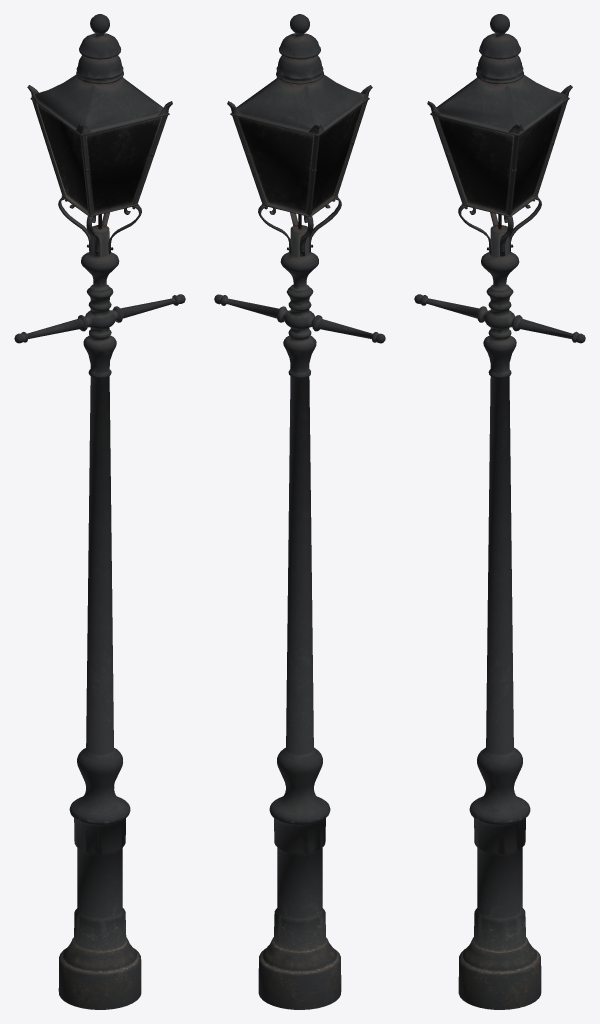
The model's file is street_lamp_01.glb.
3 views of the same model, side by side, from view 1: azimuth 30°, elevation 25°; view 2: azimuth 150°, elevation 25°; view 3: azimuth 330°, elevation 25° (orthographic).
Parts seen in each view (by area): view 1: street_lamp_01; view 2: street_lamp_01; view 3: street_lamp_01.
Part boxes in pixels (x1,y1,x2,y2): street_lamp_01: (14,14,185,1009); street_lamp_01: (214,14,385,1009); street_lamp_01: (414,14,585,1009).
Size of the model in its own units: 0.7035 by 3.87 by 0.386.
2 materials, 2 textured.
